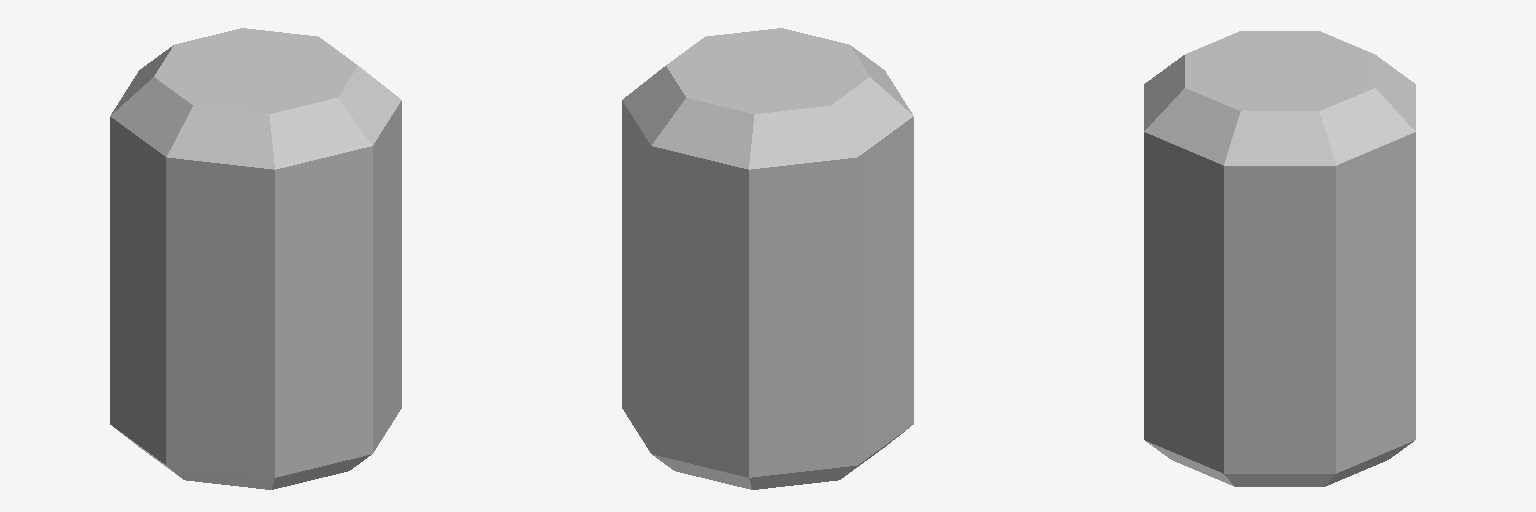
File: stepping_stumps_A_blue.obj
3 renders of one model, left to right at view 1: azimuth 30°, elevation 25°; view 2: azimuth 150°, elevation 25°; view 3: azimuth 270°, elevation 25°, orthographic.
Parts seen in each view (by area): view 1: stepping_stumps_A_blue; view 2: stepping_stumps_A_blue; view 3: stepping_stumps_A_blue.
Boxes of the visible parts, x1,y1,x2,y2 form: stepping_stumps_A_blue: [110, 28, 401, 489]; stepping_stumps_A_blue: [622, 28, 913, 489]; stepping_stumps_A_blue: [1144, 31, 1415, 486].
Size of the model in its own units: 0.2 by 0.3 by 0.2.